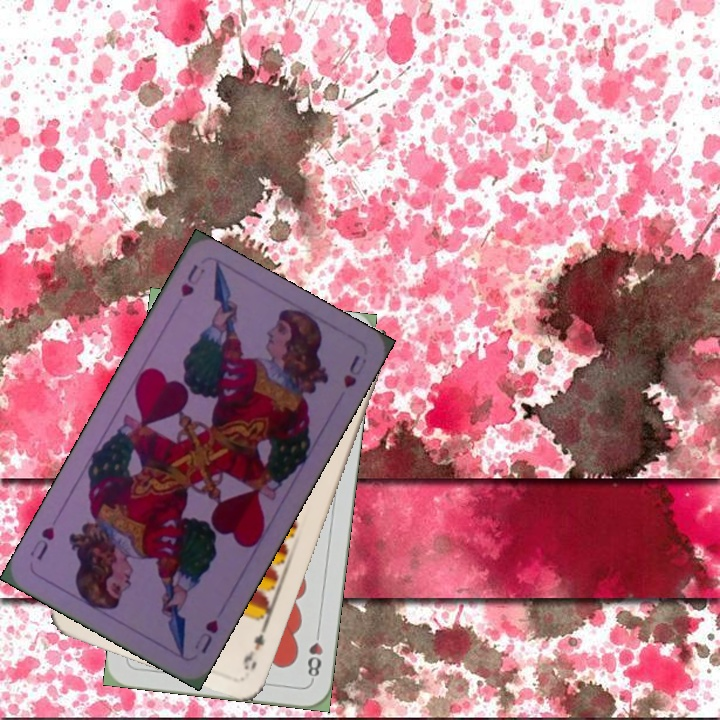E9: (239, 620, 270, 673)
H8: (303, 625, 325, 684)
HU: (190, 615, 221, 657), (176, 260, 204, 300)
